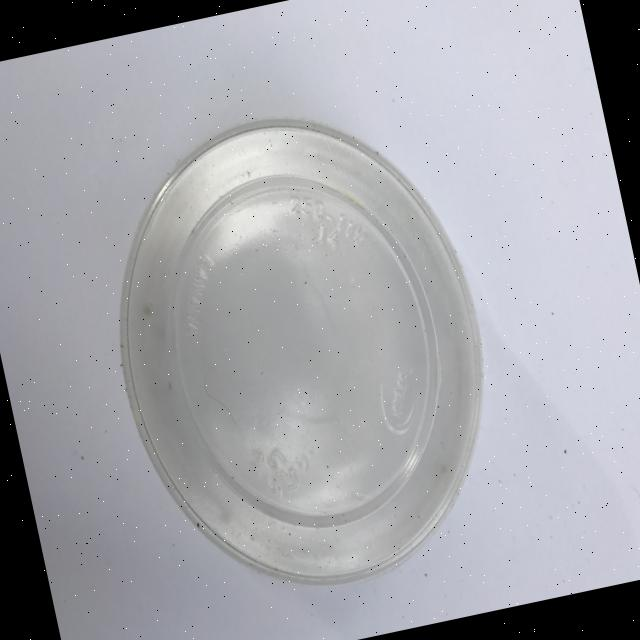plastic: (75, 82, 526, 620)
